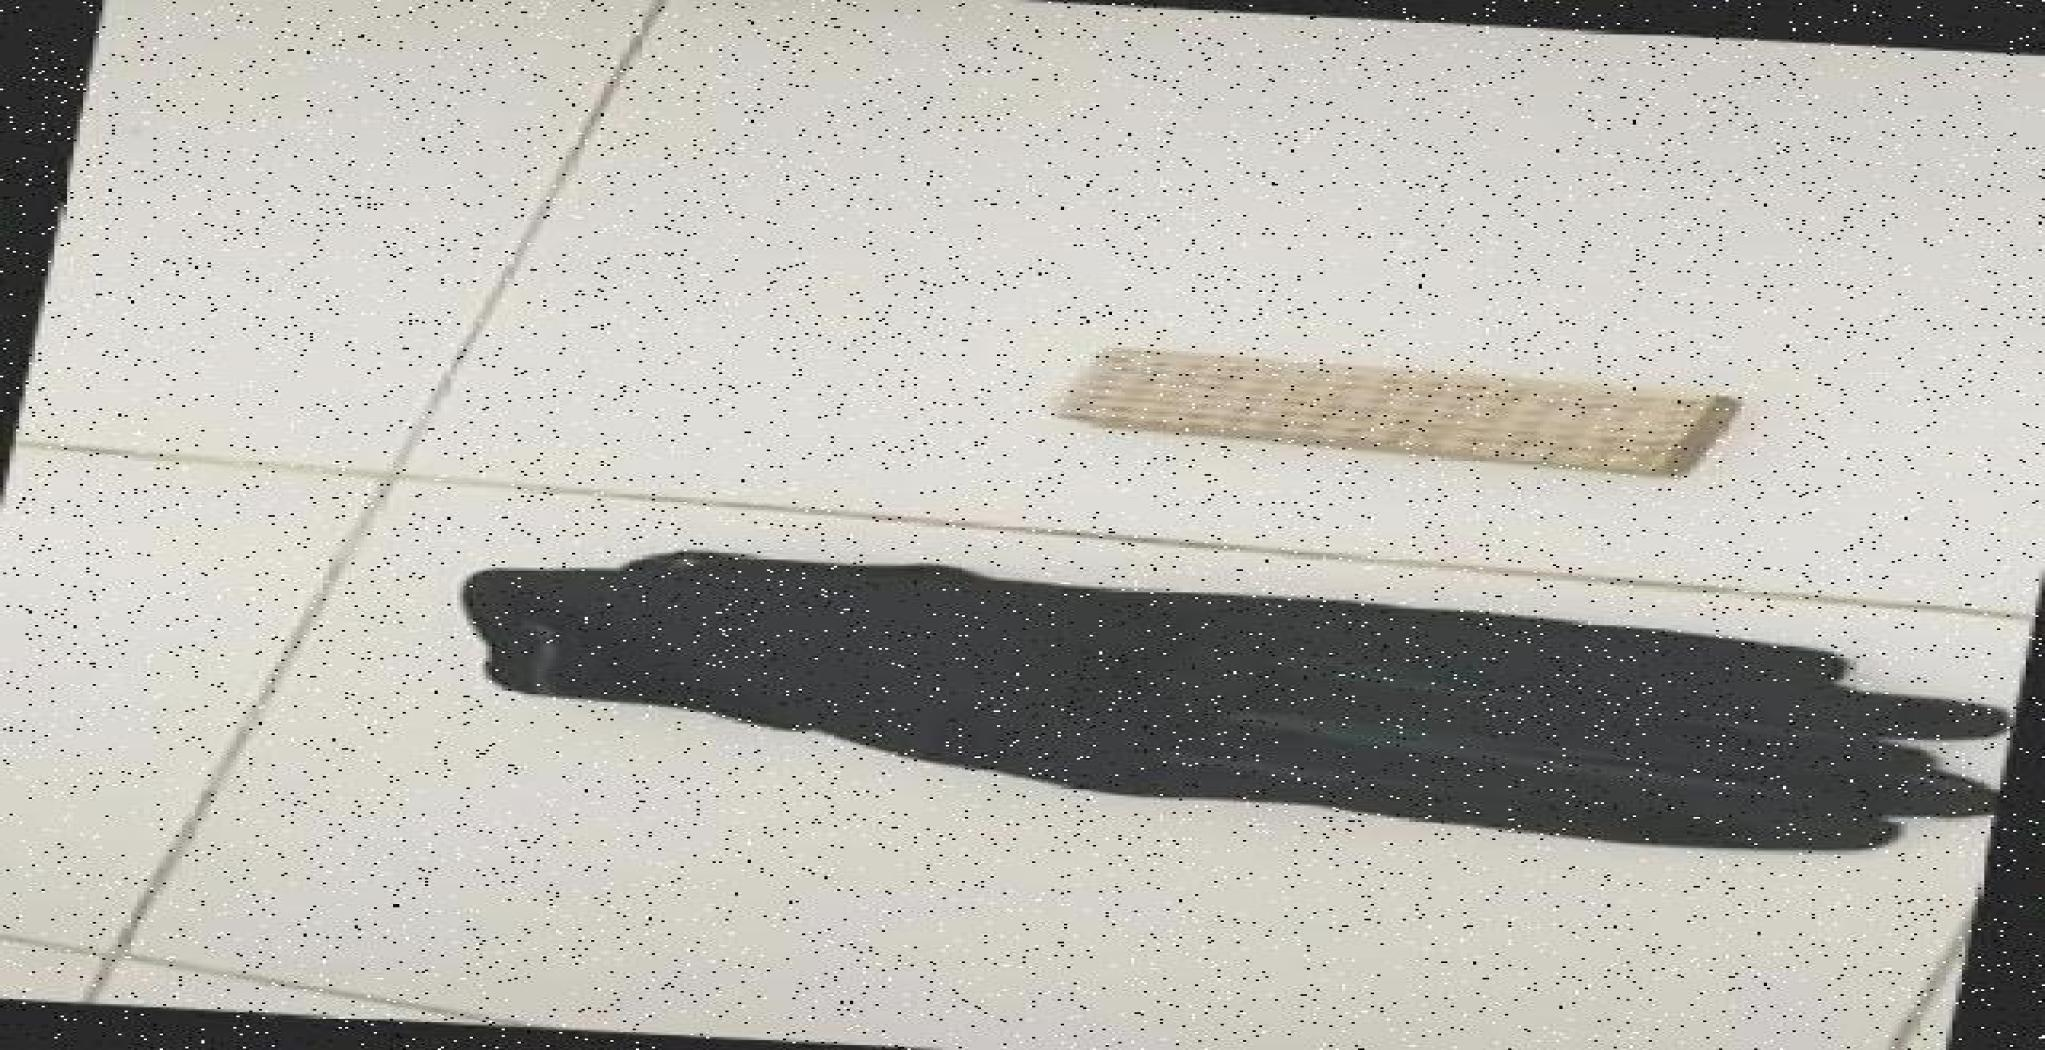gloved: (457, 548, 2010, 853)
